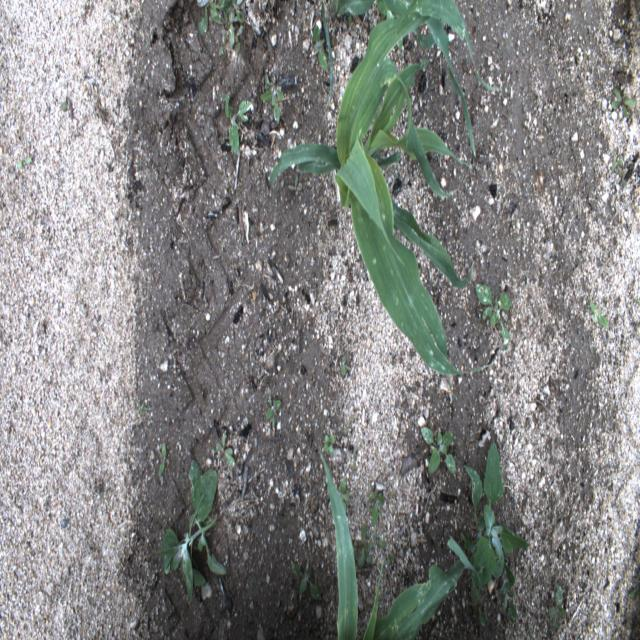crop: (268, 0, 500, 377), (318, 445, 475, 639)
weed: (466, 433, 533, 624), (162, 461, 227, 602), (194, 0, 249, 57), (472, 280, 516, 346), (310, 0, 335, 114), (422, 422, 458, 482), (221, 95, 253, 157), (292, 557, 324, 603), (257, 80, 286, 126), (540, 581, 566, 630), (214, 432, 240, 474), (610, 82, 637, 120), (367, 481, 387, 532), (262, 386, 284, 432), (353, 525, 374, 570), (610, 152, 630, 194), (589, 292, 608, 332), (374, 531, 398, 562), (338, 345, 353, 393), (16, 151, 41, 179), (58, 92, 78, 120), (322, 427, 338, 460), (156, 444, 170, 479), (288, 172, 304, 198), (339, 472, 352, 504)
